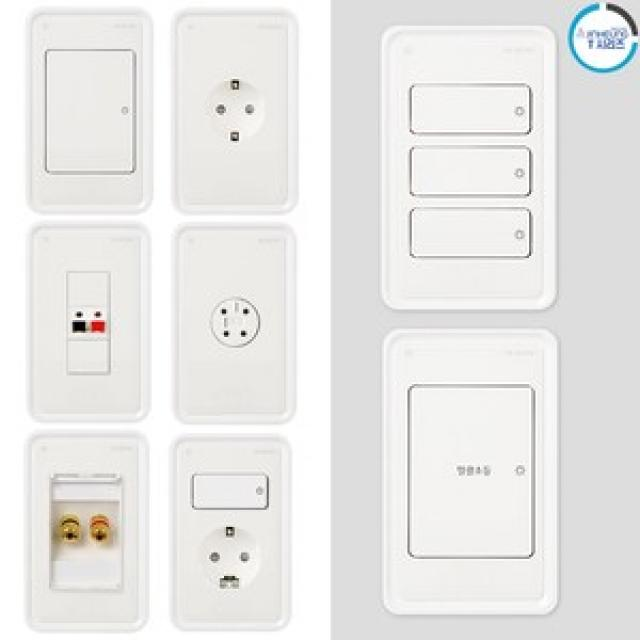typeb: (168, 8, 316, 219), (169, 435, 301, 640)
